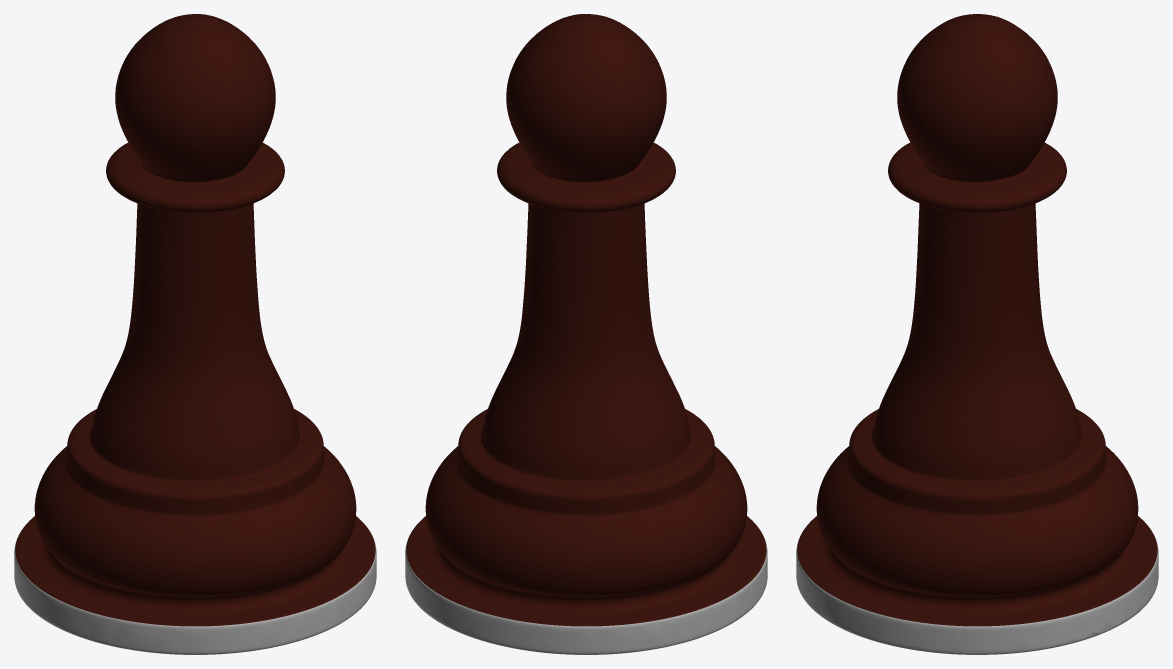
The model's file is chess.glb.
3 views of the same model, side by side, from view 1: azimuth 30°, elevation 25°; view 2: azimuth 150°, elevation 25°; view 3: azimuth 270°, elevation 25° (orthographic).
Parts seen in each view (by area): view 1: Circle.004; view 2: Circle.004; view 3: Circle.004.
Part boxes in pixels (x1,y1,x2,y2): Circle.004: (14,14,376,654); Circle.004: (405,14,767,654); Circle.004: (796,14,1158,654).
Size of the model in its own units: 1.14 by 1.94 by 1.14.
